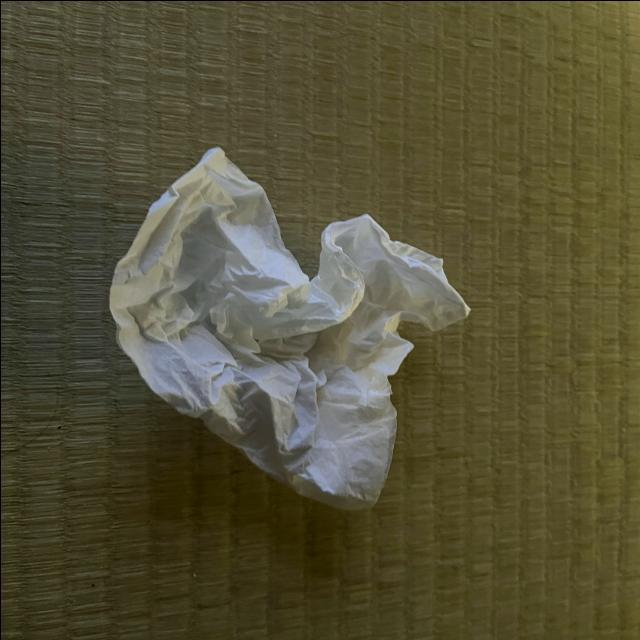Paper: (97, 133, 464, 494)
